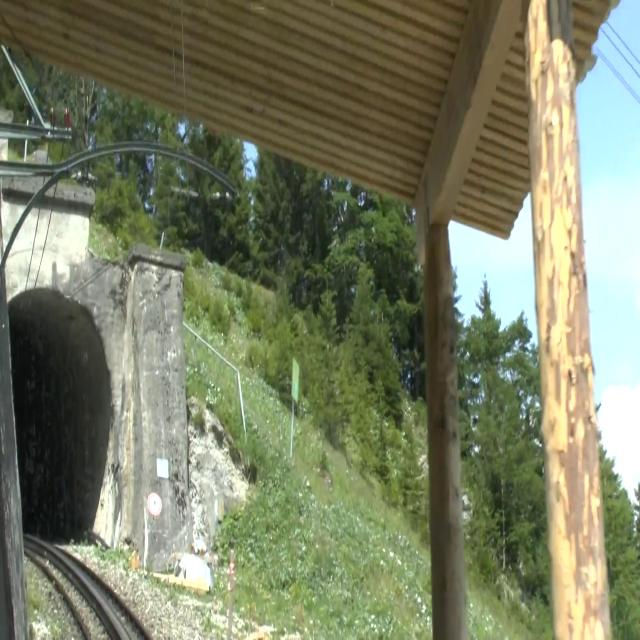rail-track: (28, 536, 145, 639)
